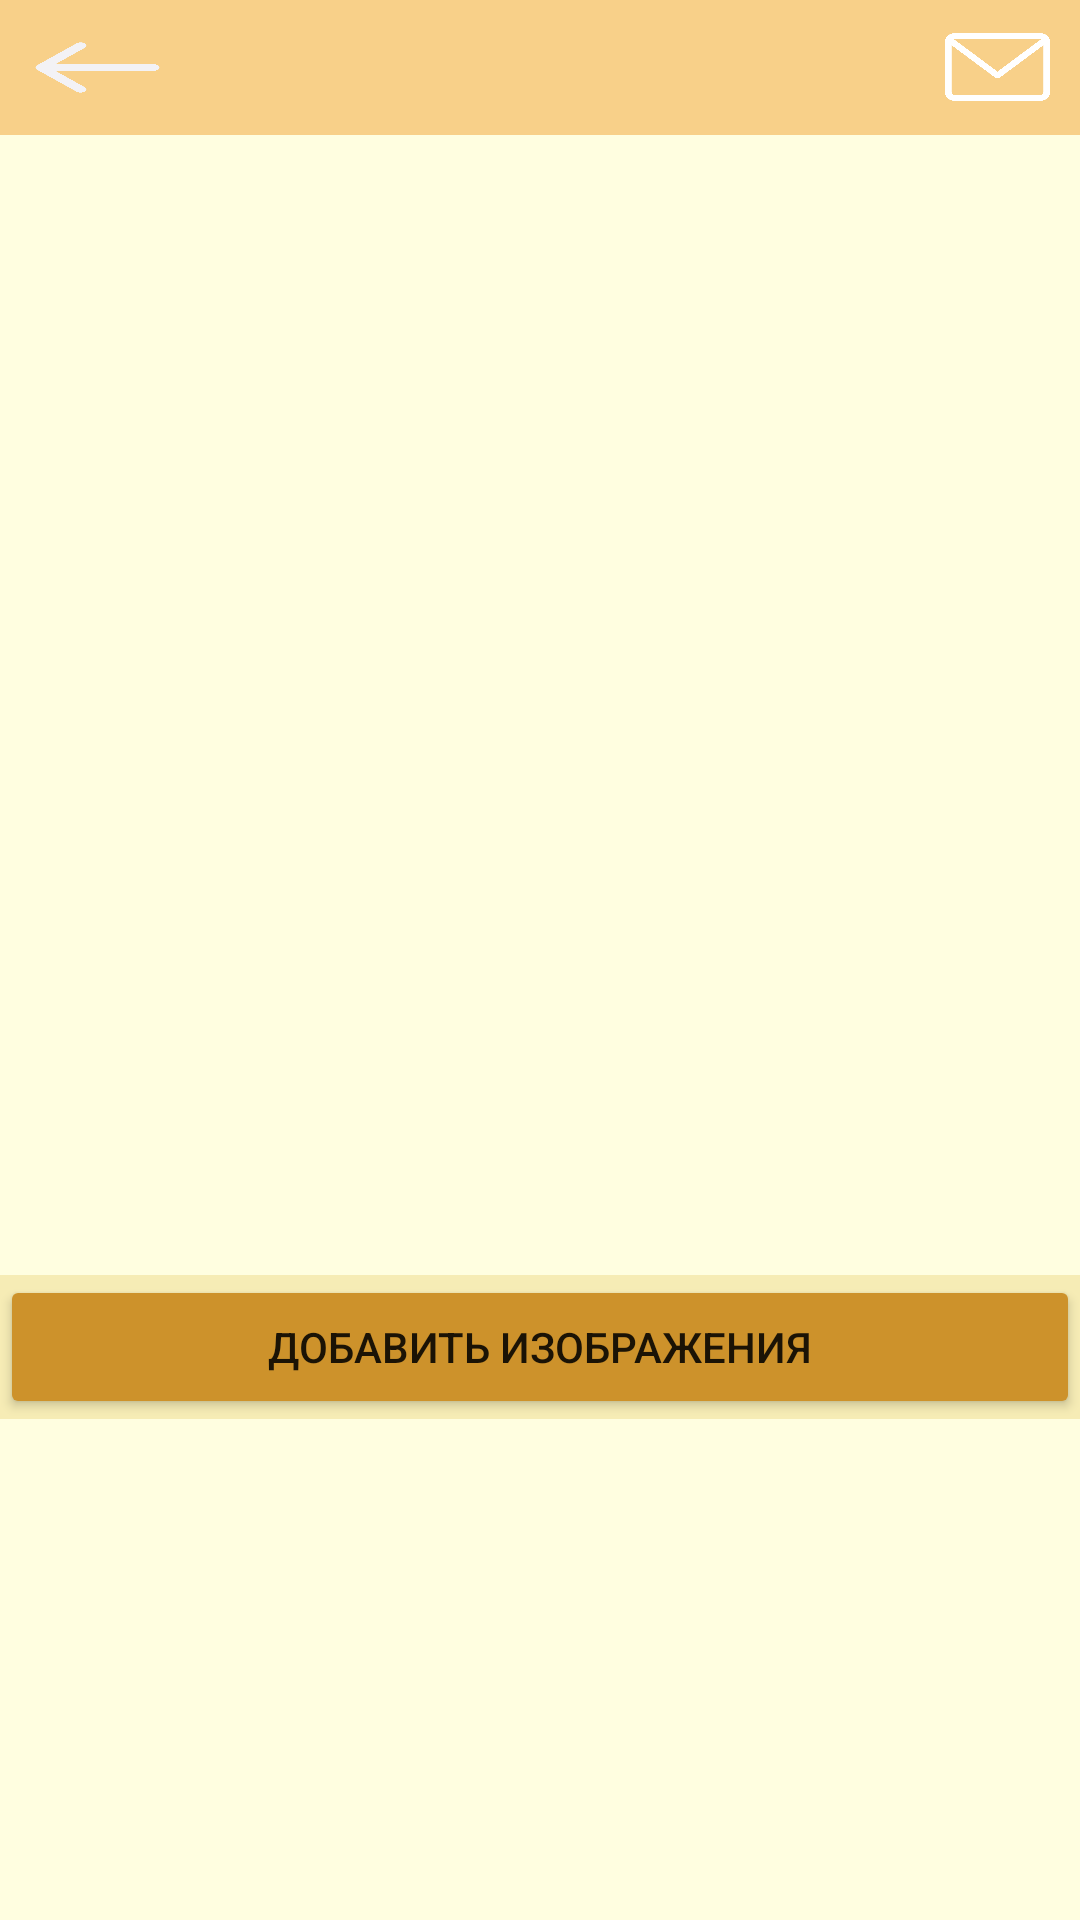

Icon bounding boxes for this 1080*1920 phone screenshot, format (x1, y1, x2, y2):
arrowback: (35, 42, 160, 93)
message: (945, 33, 1050, 101)
